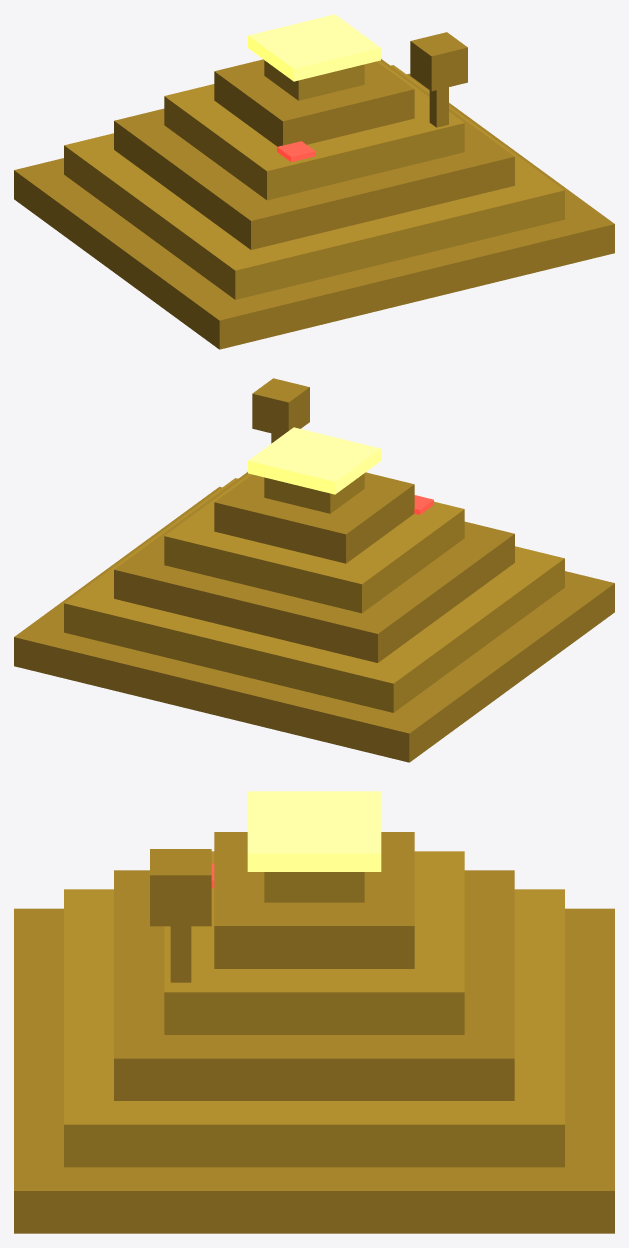
The model's file is dba-gold-heap.glb.
3 renders of one model, top to bottom at view 1: azimuth 30°, elevation 25°; view 2: azimuth 150°, elevation 25°; view 3: azimuth 270°, elevation 25°, orthographic. The views are drawn at different scales.
Visible parts, largest first — view 1: box-prop; view 2: box-prop; view 3: box-prop.
Boxes of the visible parts, x1=… form: box-prop: x1=14, y1=14, x2=614, y2=349; box-prop: x1=14, y1=378, x2=614, y2=762; box-prop: x1=14, y1=791, x2=614, y2=1233.
Size of the model in its own units: 2.6 by 1.23 by 2.34.
